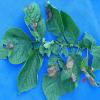Potato leaf early blight: (0, 27, 33, 64), (61, 52, 85, 95), (46, 54, 68, 99), (23, 2, 47, 41), (43, 0, 65, 38), (81, 54, 99, 88)
